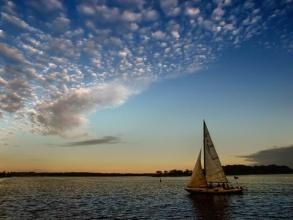fanchuan: (184, 117, 243, 194)
